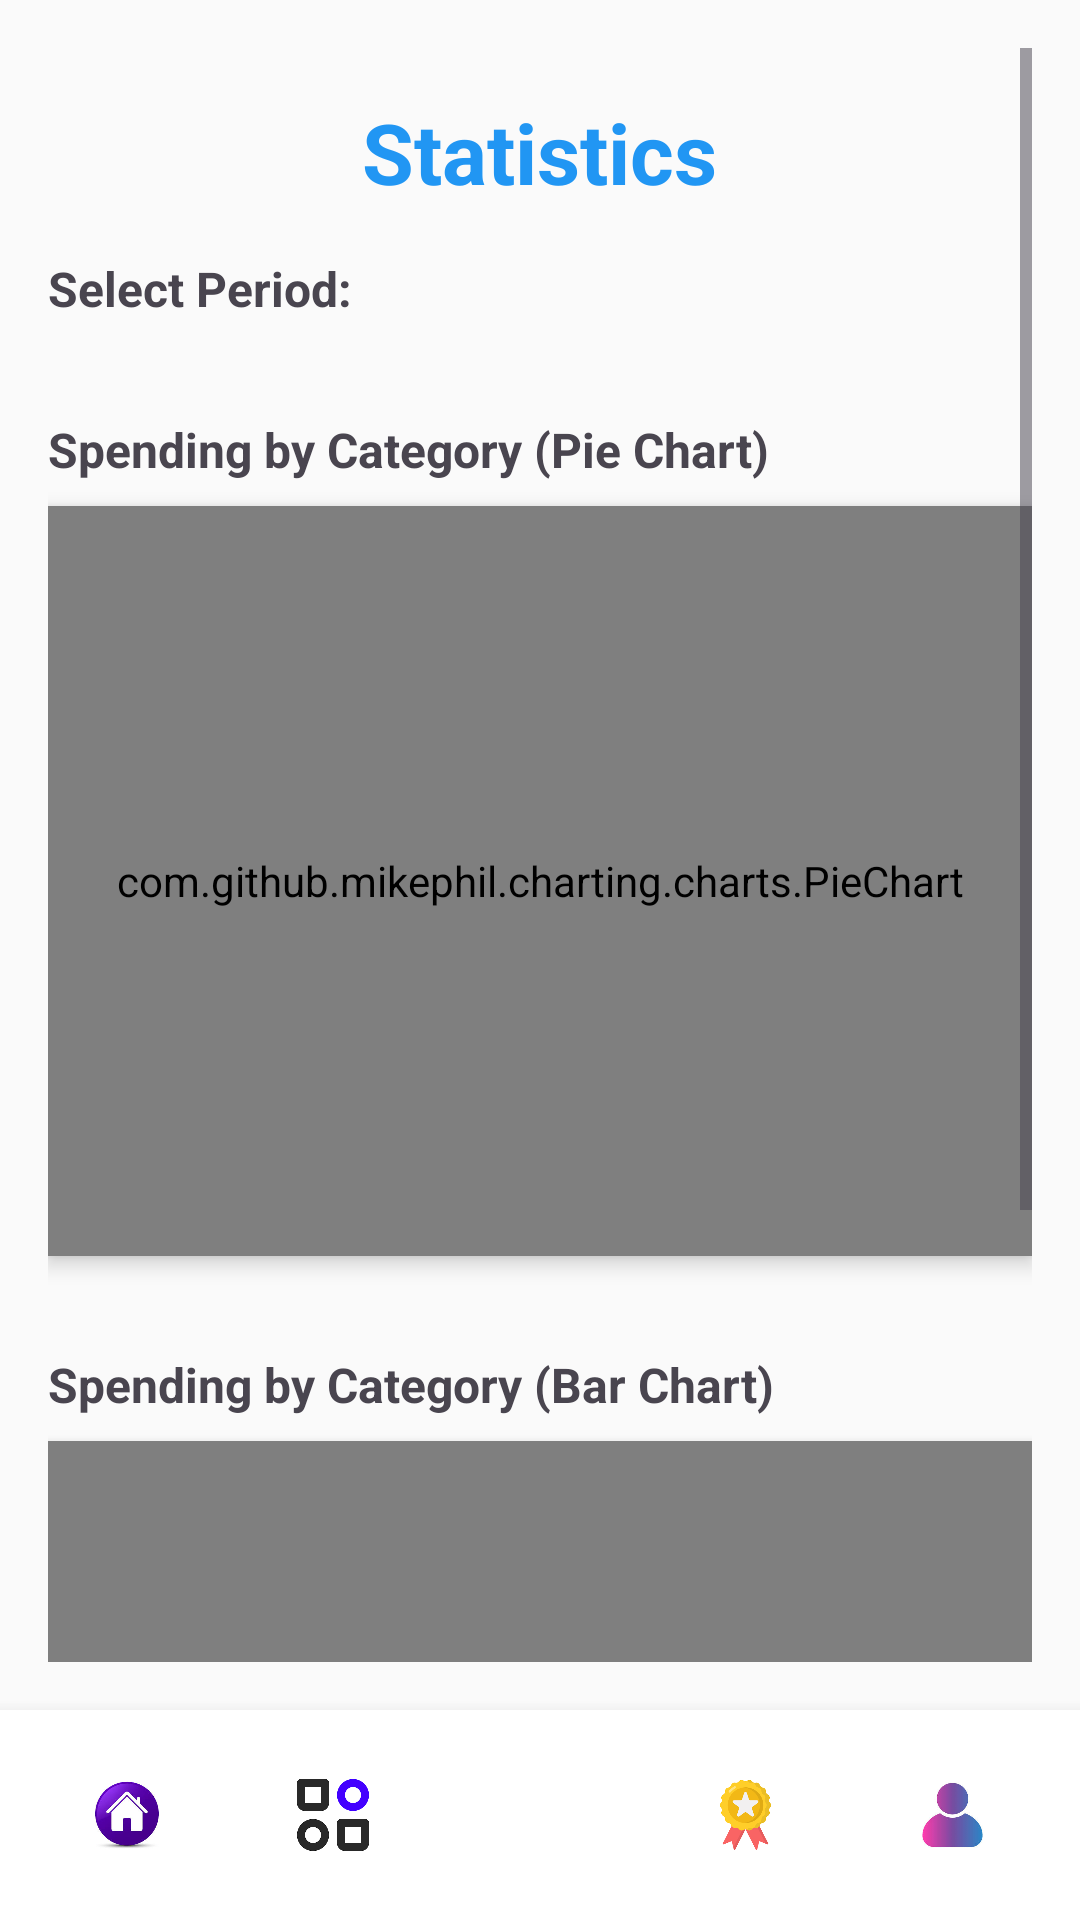

Icon click points for this 1080×1920 phone screenshot, format point (x, y):
Achievements: point (745, 1815)
Categories: point (333, 1815)
Home: point (127, 1815)
Profile: point (952, 1815)
